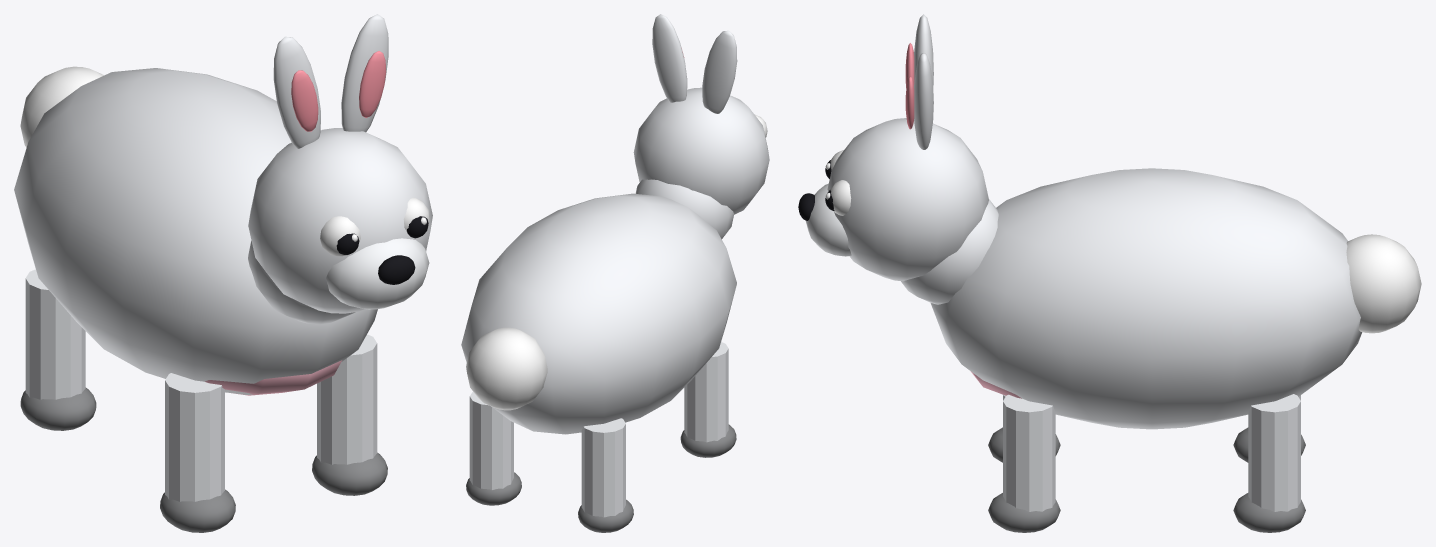
The picture shows the model from 3 angles, left to right: view 1: azimuth 30°, elevation 25°; view 2: azimuth 150°, elevation 25°; view 3: azimuth 270°, elevation 25°; orthographic projection. The views are drawn at different scales.
Visible parts, largest first — view 1: Arctic Hare; view 2: Arctic Hare; view 3: Arctic Hare.
Boxes of the visible parts, <box> form: Arctic Hare: <box>14,14,432,532</box>; Arctic Hare: <box>461,14,769,532</box>; Arctic Hare: <box>798,14,1421,532</box>.
Size of the model in its own units: 1.7 by 3.08 by 3.77.
Materials: 1 (1 with a texture image).
